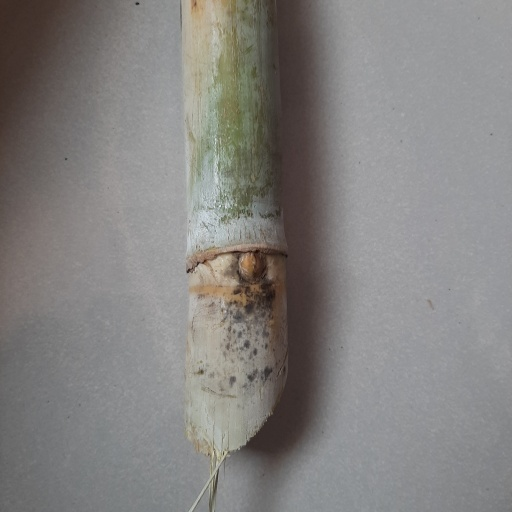Bud: (235, 251, 270, 284)
